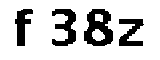3: (46, 7, 80, 52)
8: (82, 7, 114, 51)
f: (9, 5, 36, 52)
z: (115, 15, 146, 51)
